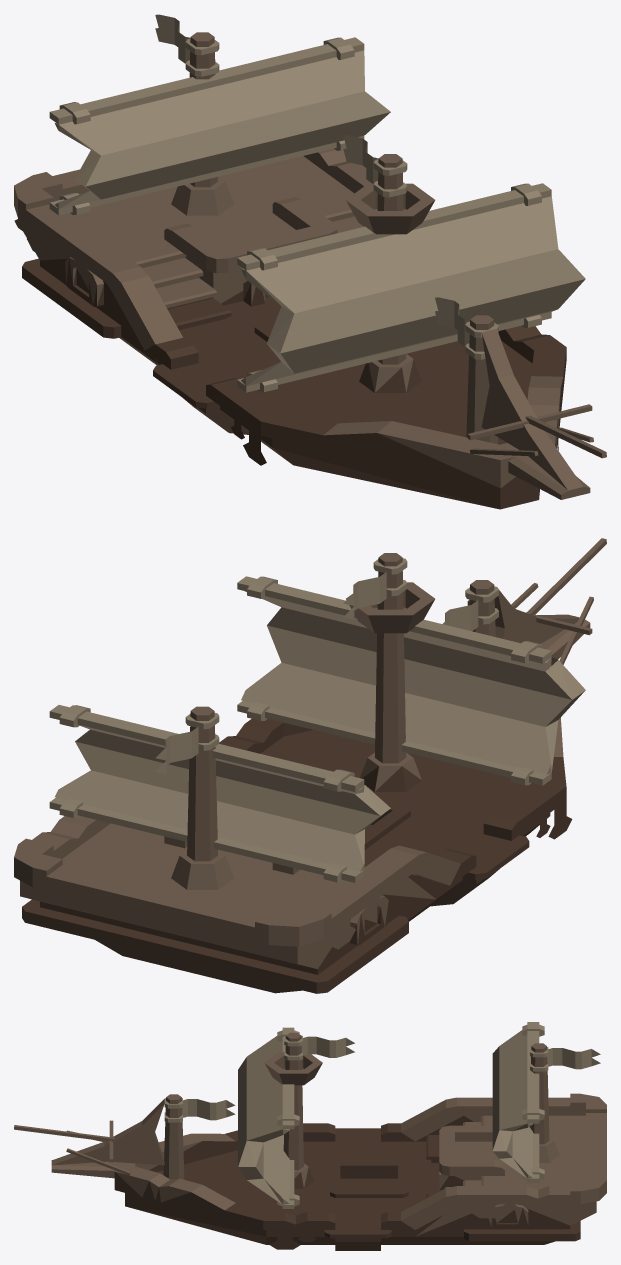
File: corporate-whaler.glb
The picture shows the model from 3 angles, top to bottom: view 1: azimuth 30°, elevation 25°; view 2: azimuth 150°, elevation 25°; view 3: azimuth 270°, elevation 25°; orthographic projection. The views are drawn at different scales.
Visible parts, largest first — view 1: Sail_Canvas, Mast_Trim, Hull_Main, Mast_BowHarpoonCrossbar, Mast_BowHarpoonBoom; view 2: Sail_Canvas, Mast_Trim, Hull_Main, Mast_BowHarpoonBoom; view 3: Mast_Trim, Hull_Main, Sail_Canvas, Mast_BowHarpoonBoom.
Boxes of the visible parts, <box> form: Sail_Canvas: <box>49,14,585,392</box>; Mast_Trim: <box>14,32,590,499</box>; Hull_Main: <box>22,258,566,509</box>; Mast_BowHarpoonCrossbar: <box>467,404,592,440</box>; Mast_BowHarpoonBoom: <box>525,415,606,458</box>; Sail_Canvas: <box>49,558,585,882</box>; Mast_Trim: <box>14,553,590,969</box>; Hull_Main: <box>22,719,572,993</box>; Mast_BowHarpoonBoom: <box>526,538,606,614</box>; Mast_Trim: <box>51,1032,606,1236</box>; Hull_Main: <box>114,1115,580,1250</box>; Sail_Canvas: <box>164,1022,600,1208</box>; Mast_BowHarpoonBoom: <box>14,1125,114,1141</box>.
Size of what is drawn, in the model's own units: 12.59 by 10.2 by 29.69.
